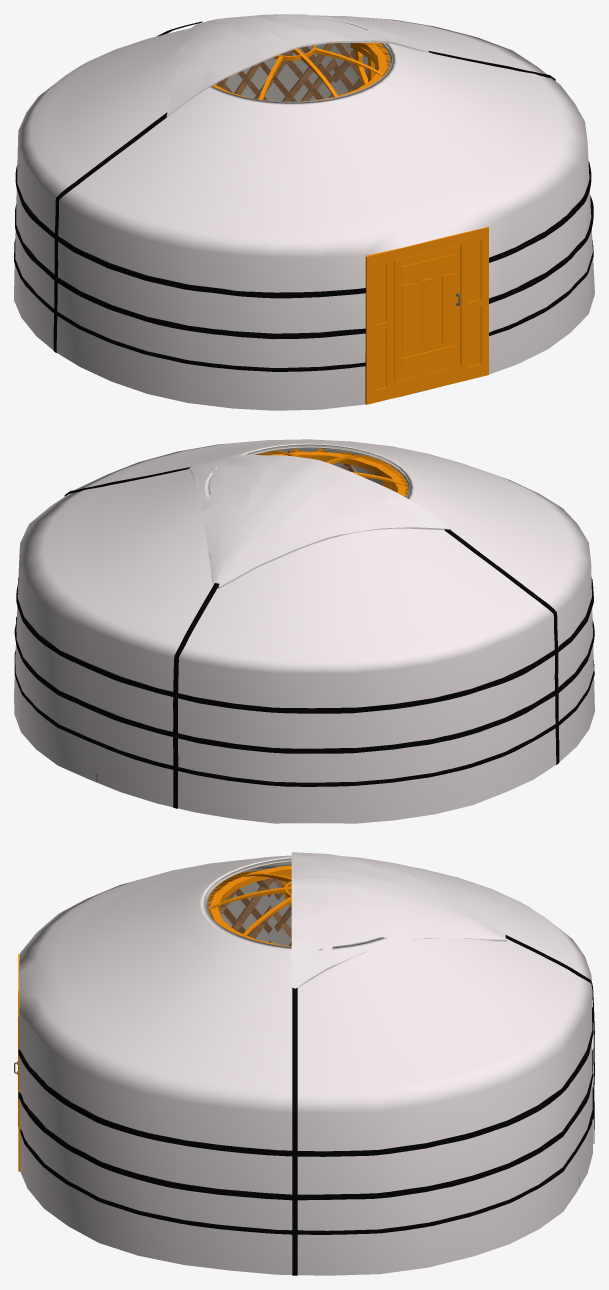
Rendered from ger.glb.
3 renders of one model, top to bottom at view 1: azimuth 30°, elevation 25°; view 2: azimuth 150°, elevation 25°; view 3: azimuth 270°, elevation 25°, orthographic. The views are drawn at different scales.
Visible parts, largest first — view 1: pasted__pasted__burees1, pasted__pasted__polySurface3, pCube196, pasted__pasted__pCube87, pCube193, pCube200, pasted__pasted__burees, pCube201, pCube125, toono, pCube198, pCube123; view 2: pasted__pasted__burees1, pCube196, pCube193, pCube200, pCube201, toono, pCube199, pCube198, pasted__pasted__burees; view 3: pasted__pasted__burees1, pCube196, pCube193, pCube200, pCube201, pasted__pasted__burees, toono, pCube197, polySurface25, pCube199.
Boxes of the visible parts, x1=… form: pasted__pasted__burees1: x1=14, y1=15, x2=594, y2=410; pasted__pasted__polySurface3: x1=365, y1=227, x2=488, y2=404; pCube196: x1=166, y1=14, x2=432, y2=116; pasted__pasted__pCube87: x1=394, y1=244, x2=460, y2=381; pCube193: x1=15, y1=161, x2=591, y2=298; pCube200: x1=15, y1=195, x2=593, y2=339; pasted__pasted__burees: x1=215, y1=43, x2=391, y2=101; pCube201: x1=14, y1=239, x2=593, y2=371; pCube125: x1=216, y1=43, x2=341, y2=101; toono: x1=212, y1=42, x2=387, y2=101; pCube198: x1=53, y1=112, x2=167, y2=352; pCube123: x1=325, y1=43, x2=388, y2=92; pasted__pasted__burees1: x1=14, y1=439, x2=594, y2=823; pCube196: x1=189, y1=454, x2=450, y2=588; pCube193: x1=16, y1=578, x2=593, y2=713; pCube200: x1=14, y1=616, x2=594, y2=753; pCube201: x1=14, y1=650, x2=594, y2=786; toono: x1=270, y1=451, x2=405, y2=496; pCube199: x1=173, y1=583, x2=219, y2=808; pCube198: x1=444, y1=529, x2=559, y2=764; pasted__pasted__burees: x1=246, y1=445, x2=409, y2=497; pasted__pasted__burees1: x1=19, y1=855, x2=592, y2=1275; pCube196: x1=291, y1=852, x2=506, y2=991; pCube193: x1=18, y1=1006, x2=593, y2=1156; pCube200: x1=18, y1=1050, x2=593, y2=1200; pCube201: x1=20, y1=1087, x2=594, y2=1234; pasted__pasted__burees: x1=205, y1=859, x2=291, y2=945; toono: x1=209, y1=865, x2=291, y2=946; pCube197: x1=292, y1=987, x2=297, y2=1275; polySurface25: x1=212, y1=878, x2=273, y2=942; pCube199: x1=505, y1=935, x2=594, y2=1143.
Bounding box in the file's own units: 27.25 × 12.88 × 25.9.
13 materials, 4 textured.
